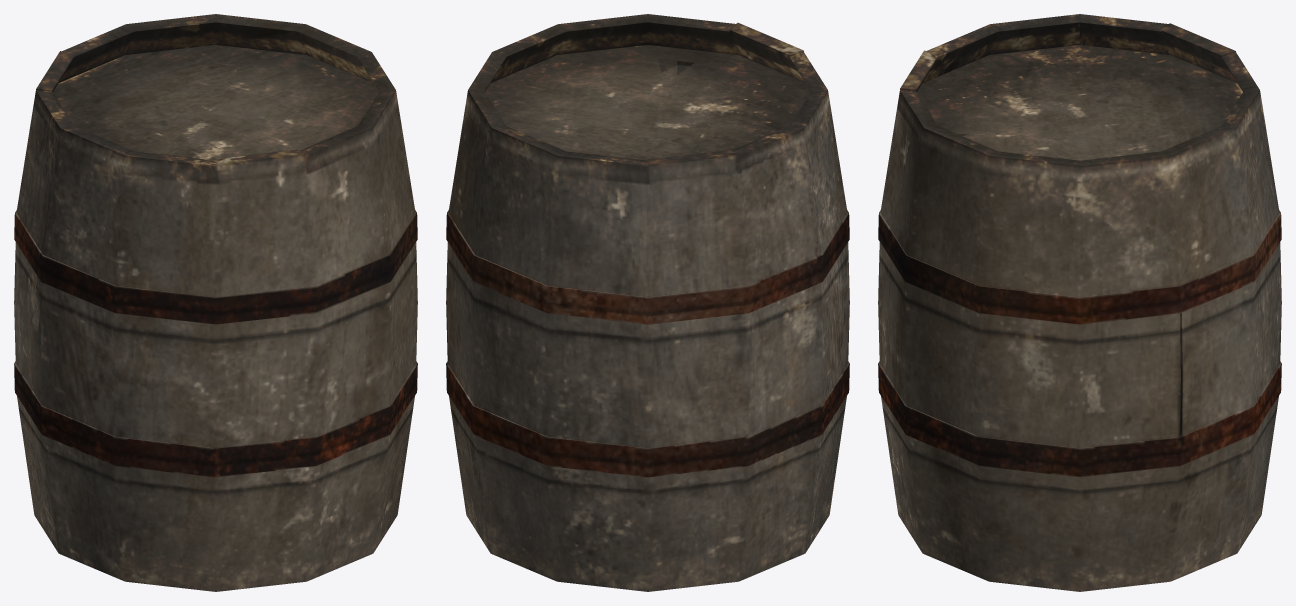
The picture shows the model from 3 angles, left to right: view 1: azimuth 30°, elevation 25°; view 2: azimuth 150°, elevation 25°; view 3: azimuth 270°, elevation 25°; orthographic projection.
Parts seen in each view (by area): view 1: barrel; view 2: barrel; view 3: barrel.
Boxes of the visible parts, x1,y1,x2,y2 form: barrel: [14, 14, 417, 591]; barrel: [446, 14, 849, 591]; barrel: [878, 14, 1281, 591].
Size of the model in its own units: 50.48 by 58.88 by 50.48.
1 material, 1 textured.
